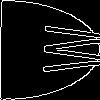W: (25, 25, 100, 73)
